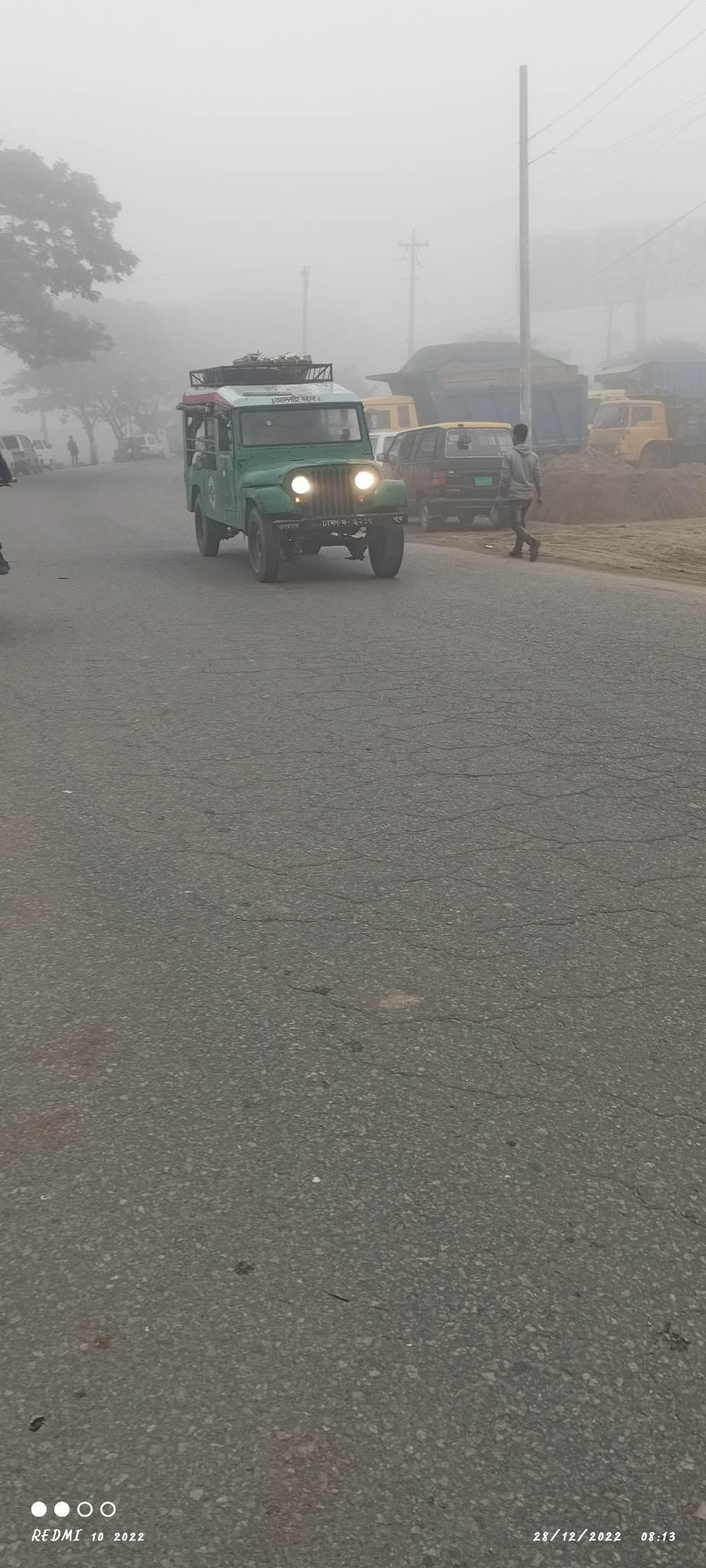Car: (148, 338, 421, 606), (392, 397, 535, 543)
Truck: (591, 351, 706, 478)
